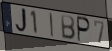1: (30, 11, 39, 35)
7: (93, 19, 105, 45)
B: (60, 14, 76, 41)
I: (48, 12, 55, 38)
J: (14, 7, 29, 34)
P: (77, 15, 92, 44)
